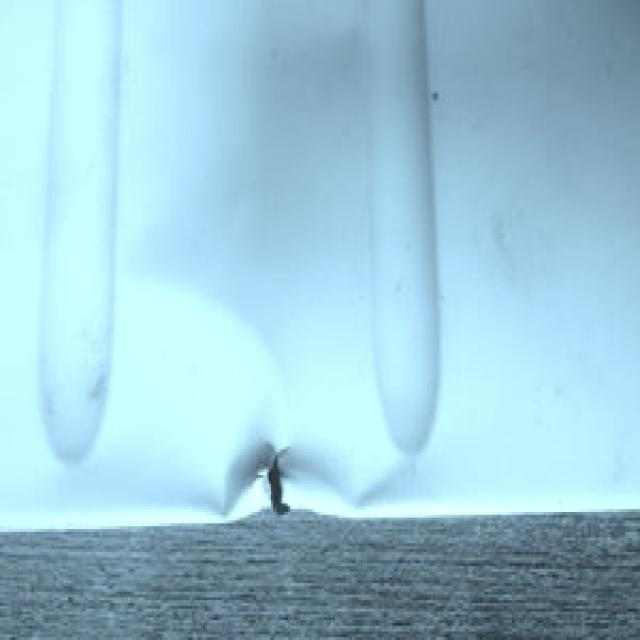crack: (256, 441, 301, 527)
